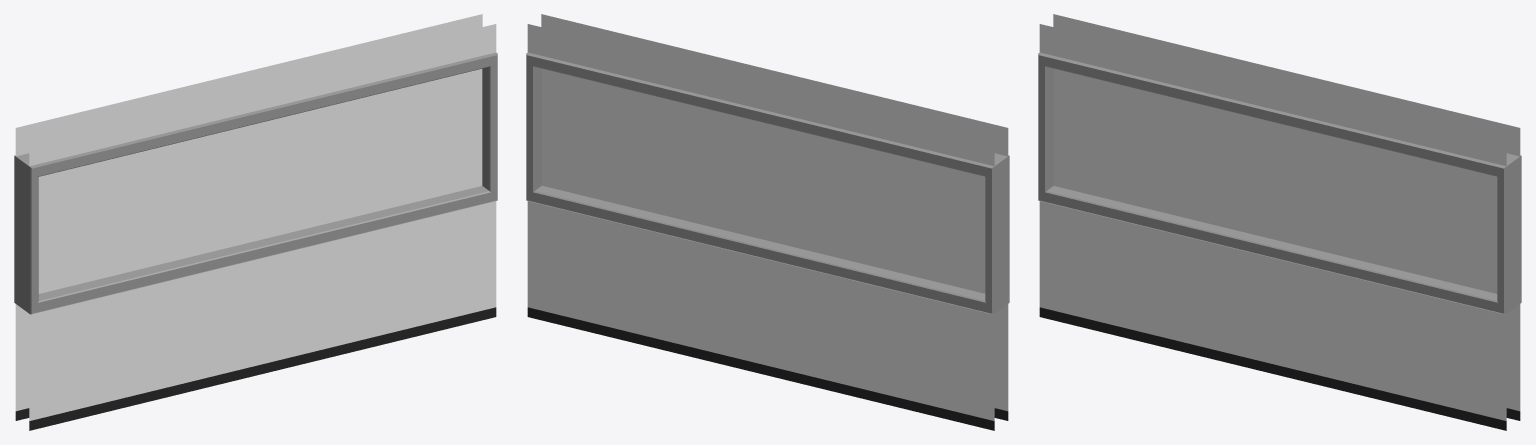
The model's file is interiorWindowWall_line_5_white.fbx.
3 views of the same model, side by side, from view 1: azimuth 30°, elevation 25°; view 2: azimuth 150°, elevation 25°; view 3: azimuth 330°, elevation 25° (orthographic).
Parts seen in each view (by area): view 1: wall, glassWall; view 2: wall, glassWall; view 3: wall, glassWall.
Boxes of the visible parts, x1=… form: wall: x1=14, y1=14, x2=497, y2=430; glassWall: x1=38, y1=69, x2=482, y2=293; wall: x1=526, y1=14, x2=1009, y2=430; glassWall: x1=542, y1=69, x2=985, y2=293; wall: x1=1038, y1=14, x2=1521, y2=430; glassWall: x1=1053, y1=69, x2=1497, y2=293.
Size of the model in its own units: 500 by 300 by 31.96.
